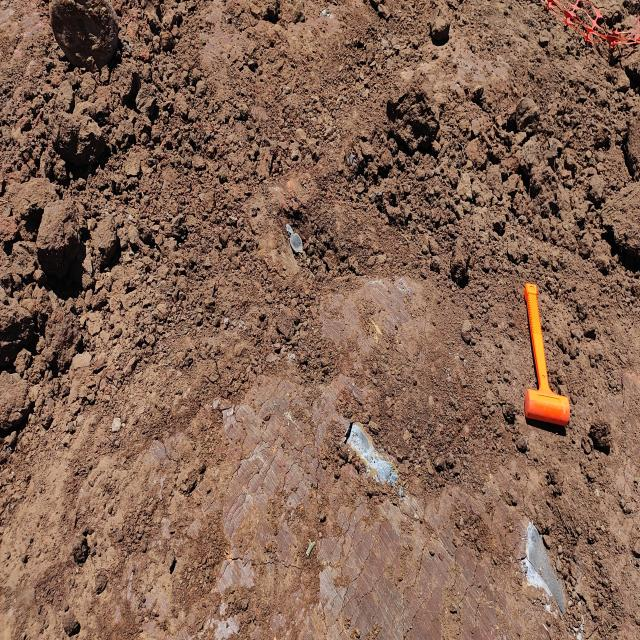Orange_hammer: (523, 281, 570, 427)
